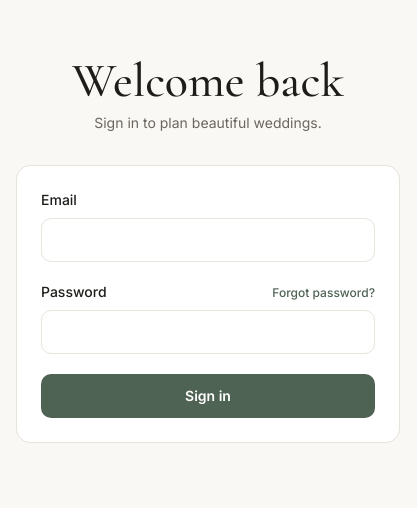
it: signing in with two-factor authentication asks for the code
Later steps or results of the test are not shown.
In the field labelled "Email": (208, 240) [41, 218, 375, 262], type "ada@example.com"
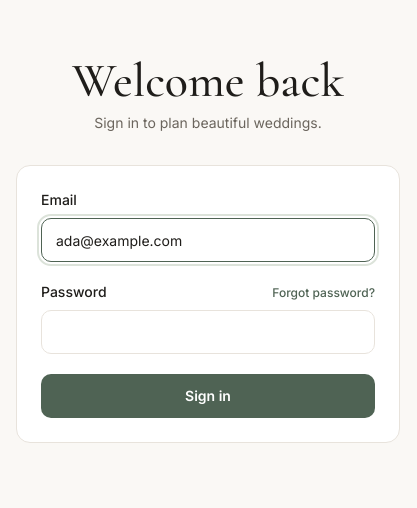
In the password field labelled "Password": (208, 332) [41, 310, 375, 354], type "correct horse battery staple"
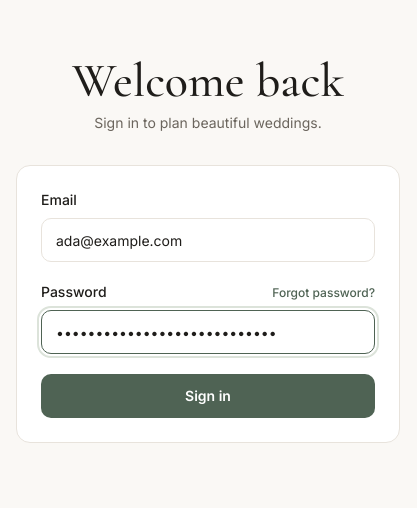
Click the button "Sign in": (208, 396) [41, 374, 375, 418]
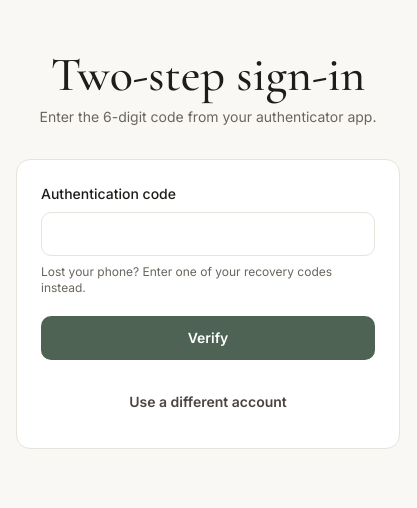
In the field labelled "Authentication code": (208, 234) [41, 212, 375, 256], type "000000"
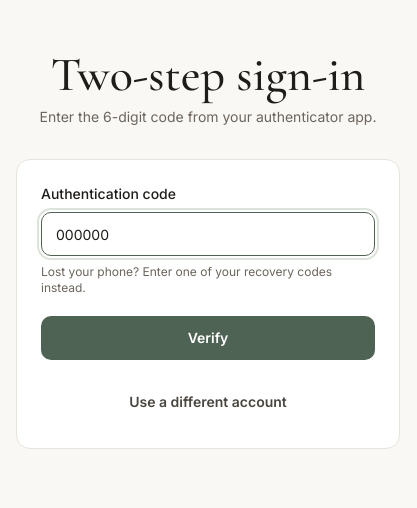
Click the button "Verify": (208, 338) [41, 316, 375, 360]
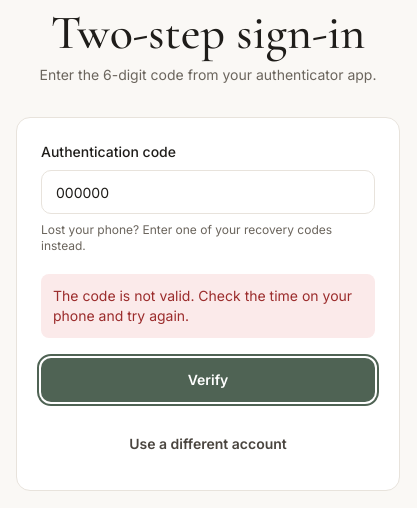
Check: the message shows "The code is not valid", box [53, 287, 352, 324]
